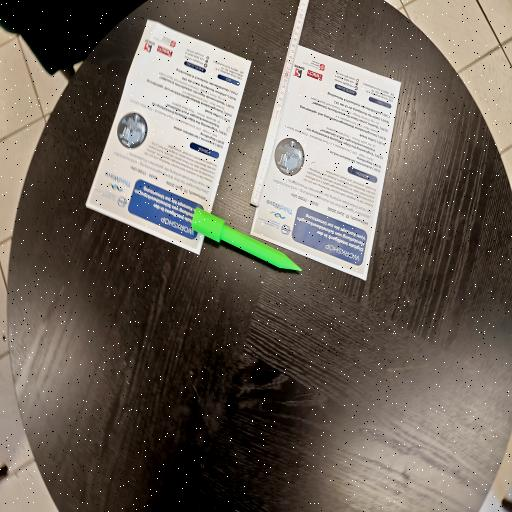Probe-Detection: (191, 208, 301, 271)
